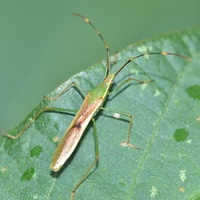insect: (0, 28, 199, 199)
